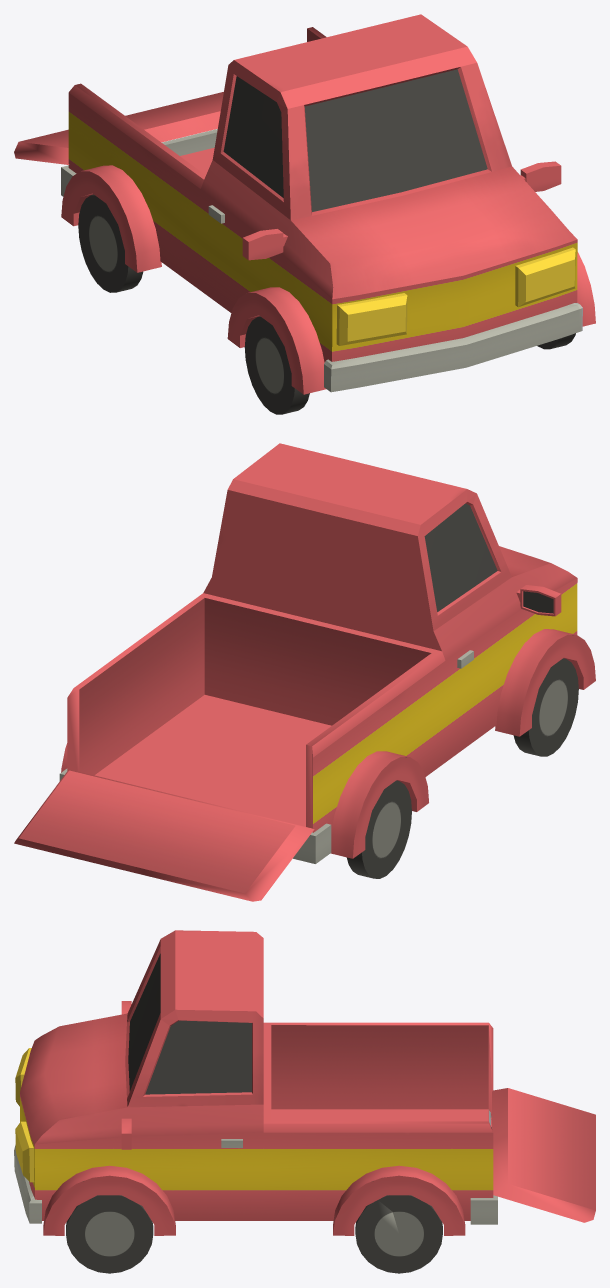
The model's file is Truck.fbx.
3 renders of one model, top to bottom at view 1: azimuth 30°, elevation 25°; view 2: azimuth 150°, elevation 25°; view 3: azimuth 270°, elevation 25°, orthographic. The views are drawn at different scales.
Parts seen in each view (by area): view 1: Red_Truck; view 2: Red_Truck; view 3: Red_Truck.
Part boxes in pixels (<box>): Red_Truck: <box>14,14,595,414</box>; Red_Truck: <box>14,443,595,901</box>; Red_Truck: <box>14,930,595,1273</box>.
Bounding box in the file's own units: 6.76 × 5.78 × 12.52.
